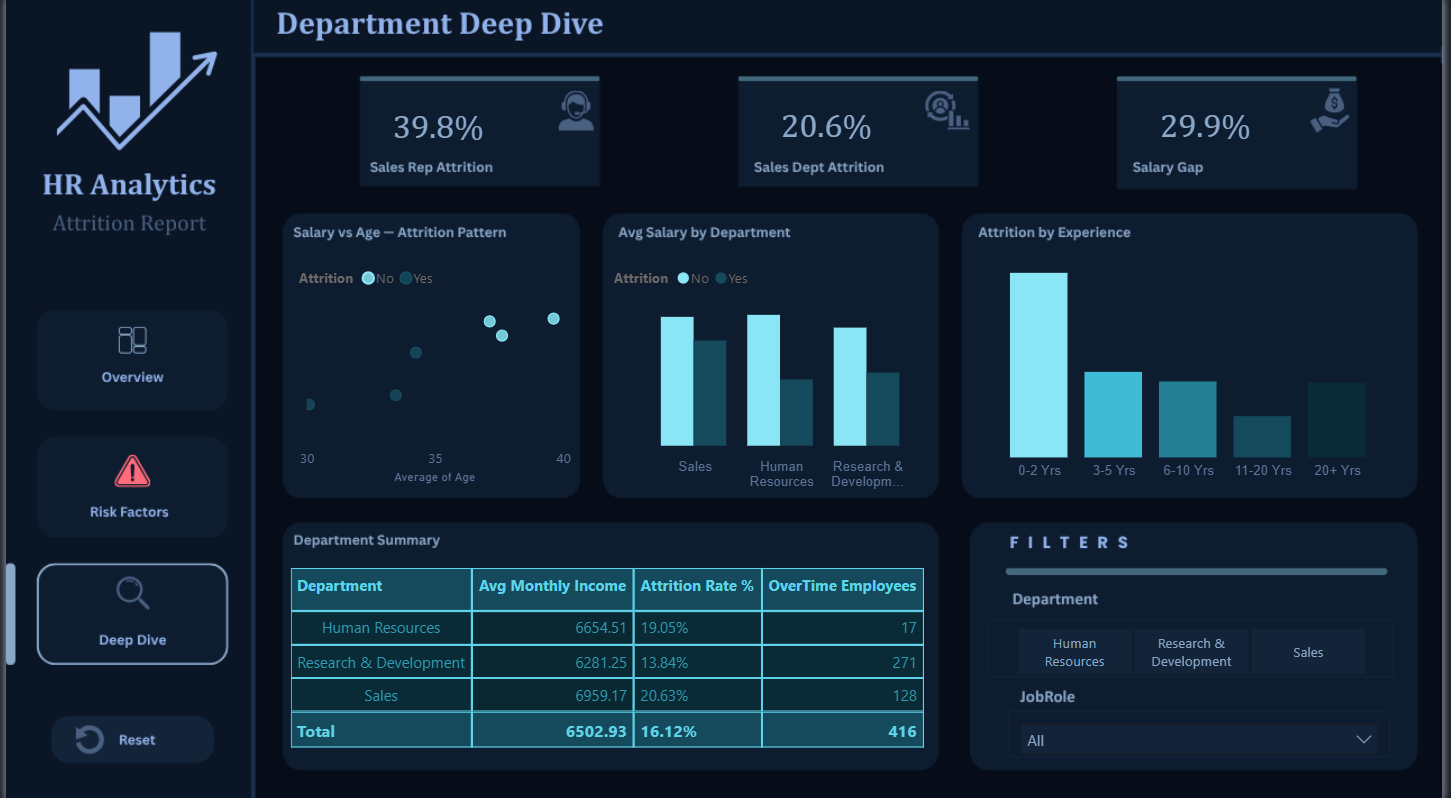

The page's visual inventory and layout, read from the dashboard file:
{"tool":"powerbi","page":{"name":"Deep Dive","canvas":[1280,720],"ordinal":2},"visuals":[{"type":"clusteredColumnChart","fields":{"Category":["hr_attrition_clean.Department"],"Y":["Avg(hr_attrition_clean.MonthlyIncome)"],"Series":["hr_attrition_clean.Attrition"]},"box":[536.2,233.1,298.2,216],"z":0},{"type":"tableEx","fields":{"Values":["hr_attrition_clean.Department","Avg(hr_attrition_clean.MonthlyIncome)","hr_attrition_clean.Attrition Rate Table","hr_attrition_clean.OT Employees"]},"box":[247.7,505.8,586,173.3],"z":1000},{"type":"clusteredColumnChart","fields":{"Y":["hr_attrition_clean.Attrition Rate"],"Category":["hr_attrition_clean.Experience Group"]},"box":[862.6,233.1,381.6,207.4],"z":2000},{"type":"cardVisual","fields":{"Data":["hr_attrition_clean.Sales Rep Attrition Rate"]},"box":[314.1,82.2,142.3,66.3],"z":3000},{"type":"cardVisual","fields":{"Data":["hr_attrition_clean.Sales Attrition Rate"]},"box":[655.2,77.3,150.9,76.1],"z":4000},{"type":"cardVisual","fields":{"Data":["hr_attrition_clean.Salary Gap %"]},"box":[998.8,77.3,139.9,76.1],"z":5000},{"type":"slicer","fields":{"Values":["hr_attrition_clean.Department"]},"box":[873.6,557.1,362,51.5],"z":6000},{"type":"actionButton","box":[38,401.2,150.9,78.5],"z":7000},{"type":"actionButton","box":[36.8,287.1,155.8,81],"z":8000},{"type":"slicer","fields":{"Values":["hr_attrition_clean.JobRole"]},"box":[893.3,638,339.9,40.5],"z":9000},{"type":"scatterChart","fields":{"X":["Avg(hr_attrition_clean.Age)"],"Y":["Avg(hr_attrition_clean.MonthlyIncome)"],"Series":["hr_attrition_clean.Attrition"],"Category":["hr_attrition_clean.Department"]},"box":[255.8,232.6,252.3,208.1],"z":10000},{"type":"actionButton","box":[50.9,646.7,127.9,39.7],"z":11000}]}

Visuals, with their boxes in screenshot pixels (x1, y1, x2, y2), scaled from the page's 1280x720 canvas onto the 1451x798 screenshot:
clusteredColumnChart - hr_attrition_clean.Department x Avg(hr_attrition_clean.MonthlyIncome): <bbox>608, 258, 946, 498</bbox>
tableEx - hr_attrition_clean.Department x Avg(hr_attrition_clean.MonthlyIncome): <bbox>281, 561, 945, 753</bbox>
clusteredColumnChart - hr_attrition_clean.Attrition Rate x hr_attrition_clean.Experience Group: <bbox>978, 258, 1410, 488</bbox>
cardVisual - hr_attrition_clean.Sales Rep Attrition Rate: <bbox>356, 91, 517, 165</bbox>
cardVisual - hr_attrition_clean.Sales Attrition Rate: <bbox>743, 86, 914, 170</bbox>
cardVisual - hr_attrition_clean.Salary Gap %: <bbox>1132, 86, 1291, 170</bbox>
slicer - hr_attrition_clean.Department: <bbox>990, 617, 1401, 675</bbox>
actionButton: <bbox>43, 445, 214, 532</bbox>
actionButton: <bbox>42, 318, 218, 408</bbox>
slicer - hr_attrition_clean.JobRole: <bbox>1013, 707, 1398, 752</bbox>
scatterChart - Avg(hr_attrition_clean.Age) x Avg(hr_attrition_clean.MonthlyIncome): <bbox>290, 258, 576, 488</bbox>
actionButton: <bbox>58, 717, 203, 761</bbox>
